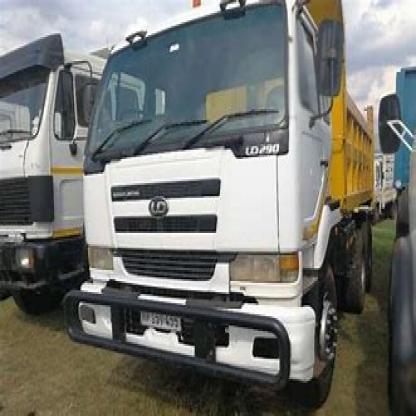dump_truck: (70, 2, 380, 407)
